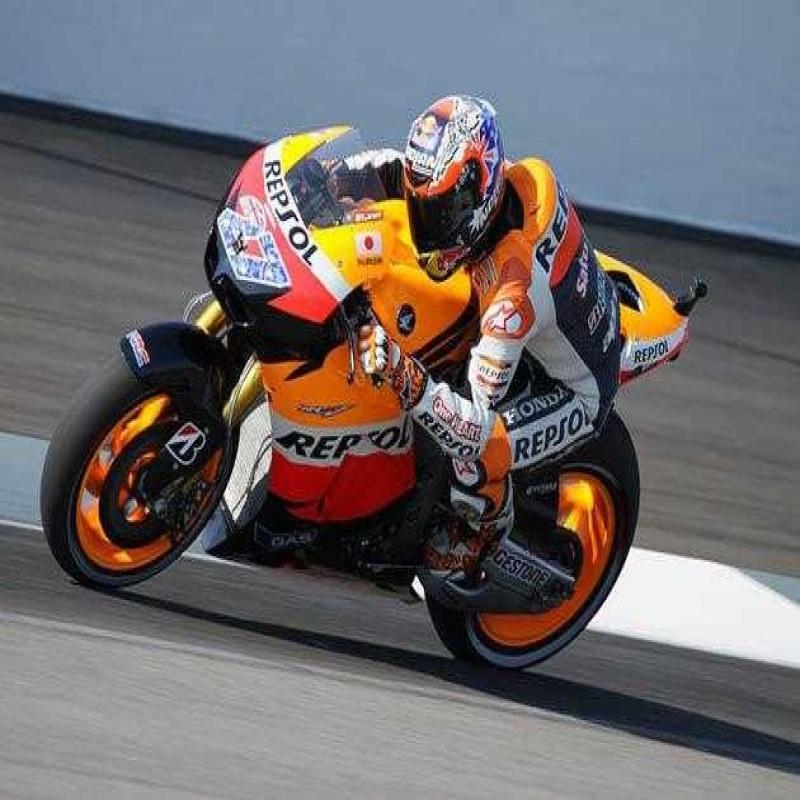bike: (49, 88, 700, 732)
